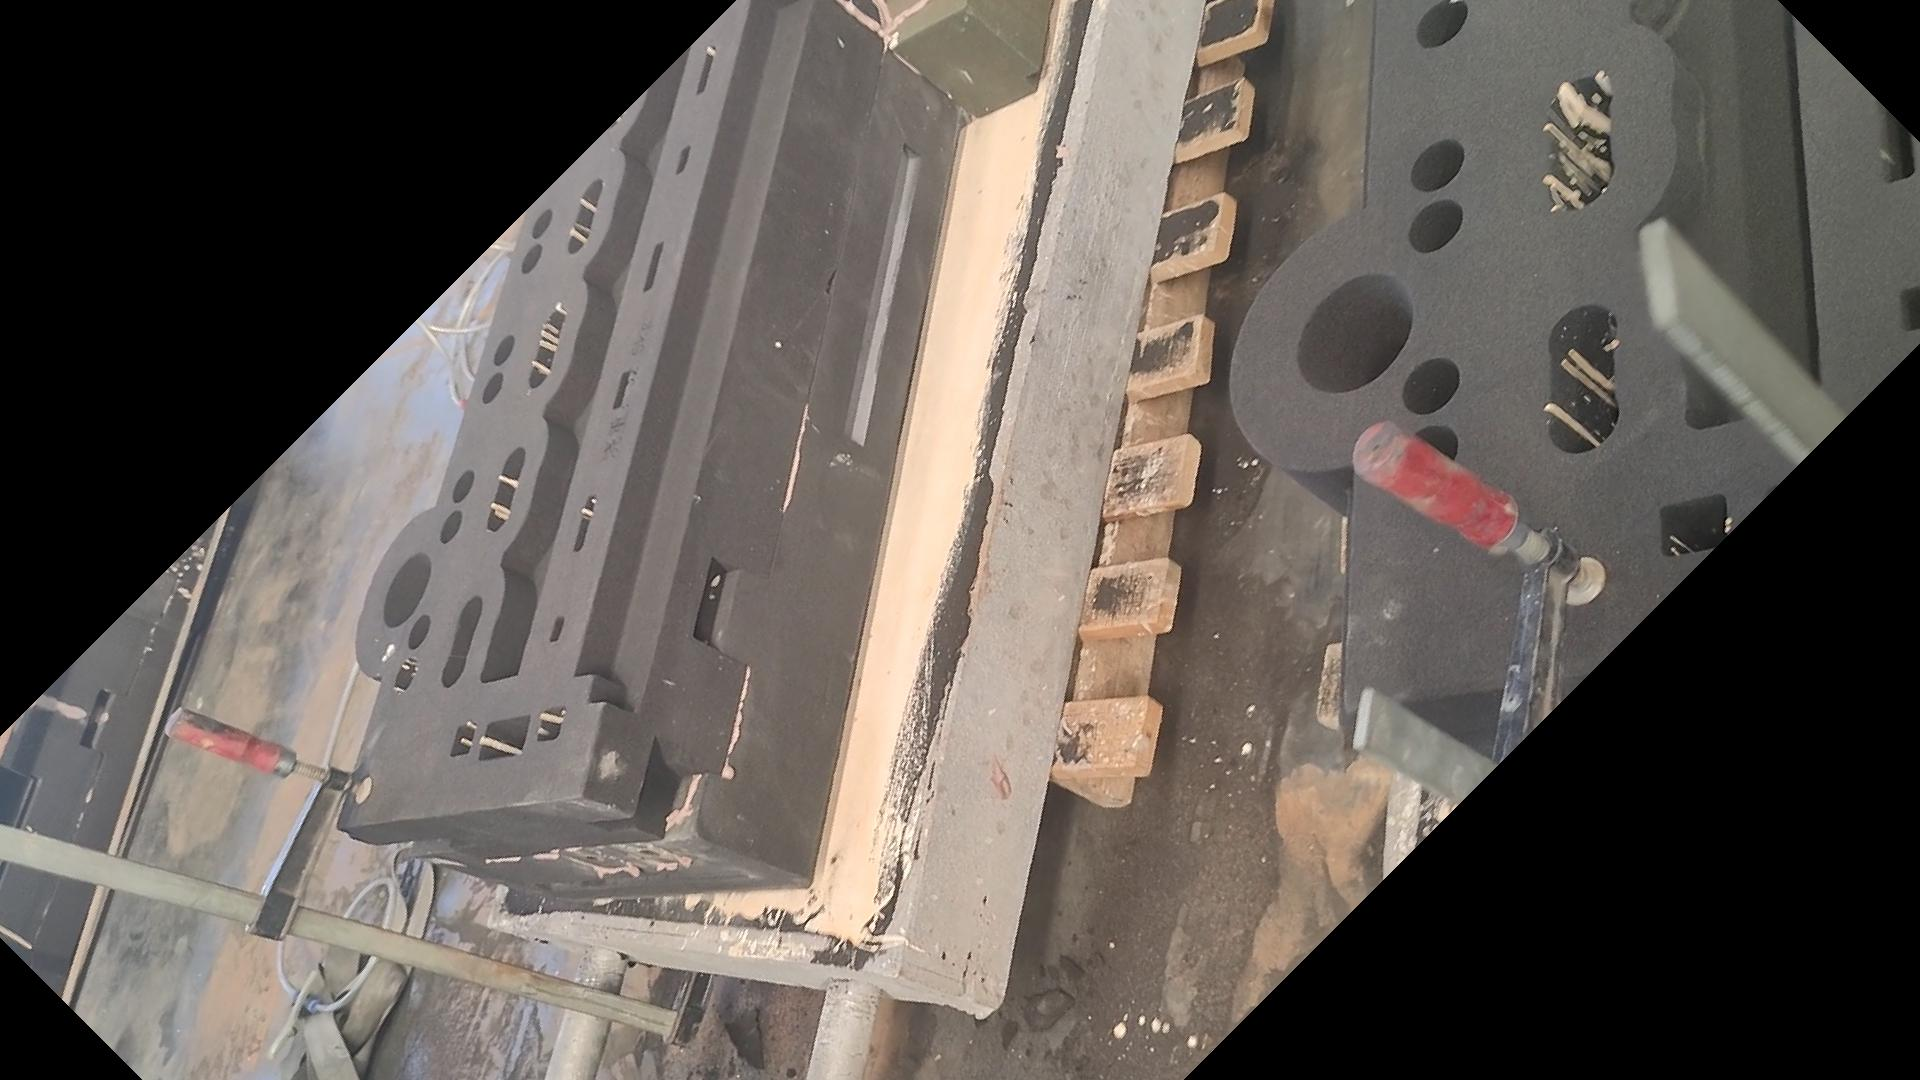pouring hole: (1298, 274, 1414, 393), (382, 553, 431, 626)
